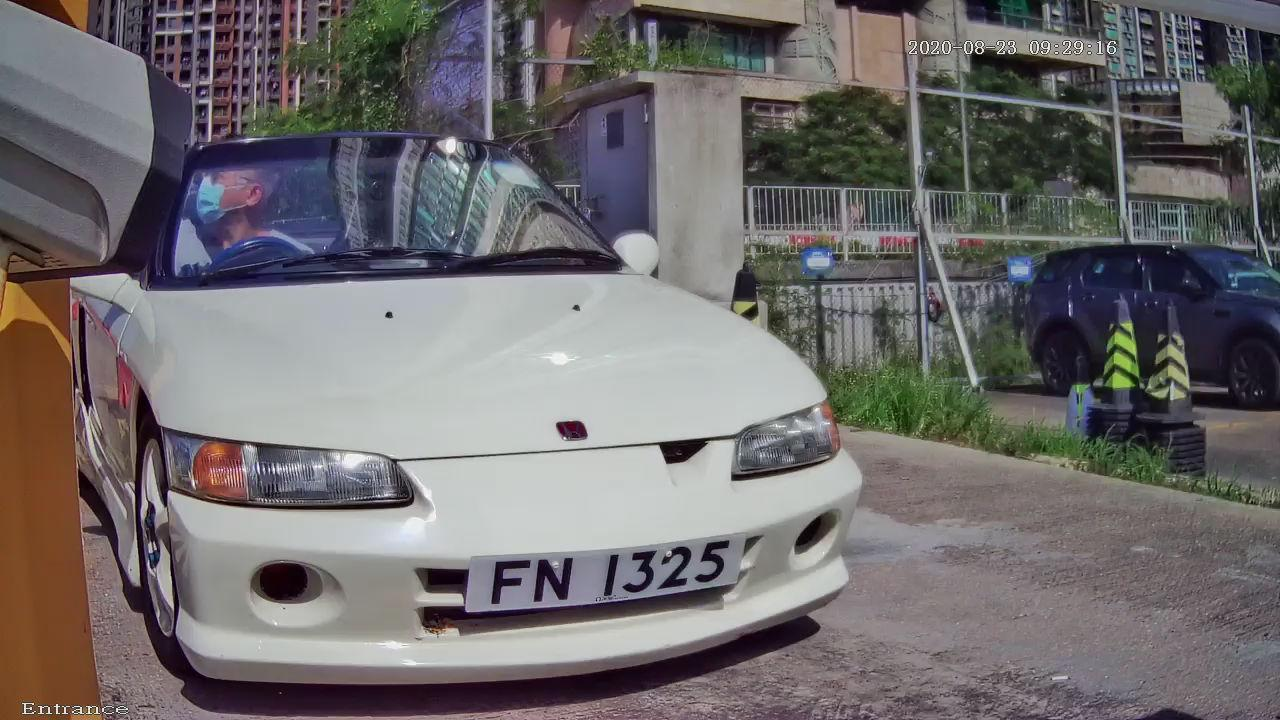Car: (6, 7, 943, 720)
License Plate: (405, 476, 794, 661)
